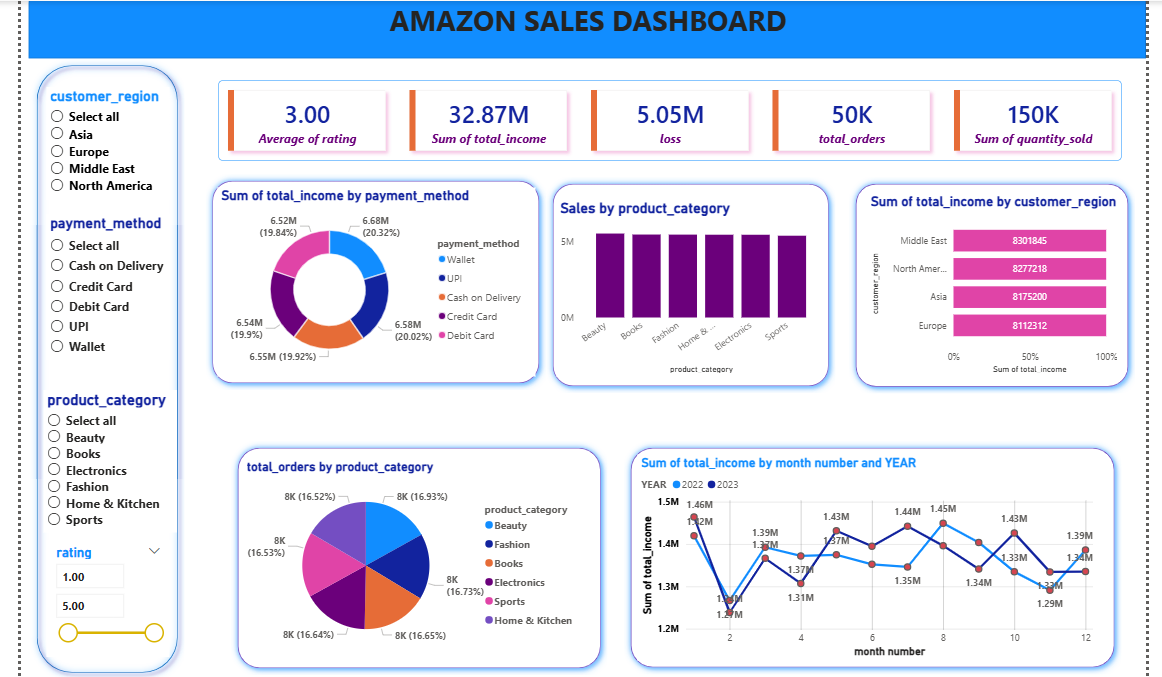

Layout of this report page (visuals, bound fields, positions):
{"tool":"powerbi","page":{"name":"Page 3","canvas":[1500,1000],"ordinal":0},"visuals":[{"type":"shape","box":[10,0,1490,98],"z":0},{"type":"textbox","box":[12,16,1488,66],"z":1000},{"type":"shape","box":[246,252,454,288],"z":2000},{"type":"donutChart","fields":{"Category":["amazon_sales_cleaned_dataset.payment_method"],"Y":["Sum(amazon_sales_cleaned_dataset.total_income)"]},"box":[262,270,424,252],"z":3000},{"type":"shape","box":[700,256,386,288],"z":4000},{"type":"shape","box":[280,608,502,312],"z":5000},{"type":"shape","box":[1104.3,255.7,381.4,288.6],"z":6000},{"type":"clusteredColumnChart","title":"Sales by product_category","fields":{"Category":["amazon_sales_cleaned_dataset.product_category"],"Y":["Sum(amazon_sales_cleaned_dataset.total_income)"]},"box":[714,286,358,236],"z":7000},{"type":"shape","box":[12,98,206,828],"z":8000},{"type":"listSlicer","fields":{"Values":["amazon_sales_cleaned_dataset.customer_region"]},"box":[34,136,164,150],"z":9000},{"type":"listSlicer","fields":{"Values":["amazon_sales_cleaned_dataset.payment_method"]},"box":[34,306,164,194],"z":10000},{"type":"listSlicer","fields":{"Values":["amazon_sales_cleaned_dataset.product_category"]},"box":[30,540,178,190],"z":11000},{"type":"shape","box":[803,608,663,311],"z":12000},{"type":"pieChart","fields":{"Y":["amazon_sales_cleaned_dataset.total_orders"],"Category":["amazon_sales_cleaned_dataset.product_category"]},"box":[296,632,460,264],"z":13000},{"type":"hundredPercentStackedBarChart","fields":{"Category":["amazon_sales_cleaned_dataset.customer_region"],"Y":["Sum(amazon_sales_cleaned_dataset.total_income)"]},"box":[1127.1,277.1,338.6,244.3],"z":14000},{"type":"cardVisual","fields":{"Data":["Avg(amazon_sales_cleaned_dataset.rating)","Sum(amazon_sales_cleaned_dataset.total_income)","amazon_sales_cleaned_dataset.loss","amazon_sales_cleaned_dataset.total_orders","Sum(amazon_sales_cleaned_dataset.quantity_sold)"]},"box":[245.7,110,1240,141.4],"z":15000},{"type":"slicer","fields":{"Values":["amazon_sales_cleaned_dataset.rating"]},"box":[34.3,740,164.3,155.7],"z":16000},{"type":"lineChart","fields":{"Category":["amazon_sales_cleaned_dataset.Column"],"Y":["Sum(amazon_sales_cleaned_dataset.total_income)"],"Series":["amazon_sales_cleaned_dataset.YEAR"]},"box":[821,626,612,275],"z":16001}]}

Visuals, with their boxes on the page's 1500x1000 design canvas (x1, y1, x2, y2). These are canvas units, not pixel positions in the 1162x677 screenshot, which may show the page scaled, cropped or inside an application window:
shape: <region>10, 0, 1500, 98</region>
textbox: <region>12, 16, 1500, 82</region>
shape: <region>246, 252, 700, 540</region>
donutChart - amazon_sales_cleaned_dataset.payment_method x Sum(amazon_sales_cleaned_dataset.total_income): <region>262, 270, 686, 522</region>
shape: <region>700, 256, 1086, 544</region>
shape: <region>280, 608, 782, 920</region>
shape: <region>1104, 256, 1486, 544</region>
"Sales by product_category" clusteredColumnChart: <region>714, 286, 1072, 522</region>
shape: <region>12, 98, 218, 926</region>
listSlicer - amazon_sales_cleaned_dataset.customer_region: <region>34, 136, 198, 286</region>
listSlicer - amazon_sales_cleaned_dataset.payment_method: <region>34, 306, 198, 500</region>
listSlicer - amazon_sales_cleaned_dataset.product_category: <region>30, 540, 208, 730</region>
shape: <region>803, 608, 1466, 919</region>
pieChart - amazon_sales_cleaned_dataset.total_orders x amazon_sales_cleaned_dataset.product_category: <region>296, 632, 756, 896</region>
hundredPercentStackedBarChart - amazon_sales_cleaned_dataset.customer_region x Sum(amazon_sales_cleaned_dataset.total_income): <region>1127, 277, 1466, 521</region>
cardVisual - Avg(amazon_sales_cleaned_dataset.rating) x Sum(amazon_sales_cleaned_dataset.total_income): <region>246, 110, 1486, 251</region>
slicer - amazon_sales_cleaned_dataset.rating: <region>34, 740, 199, 896</region>
lineChart - amazon_sales_cleaned_dataset.Column x Sum(amazon_sales_cleaned_dataset.total_income): <region>821, 626, 1433, 901</region>
